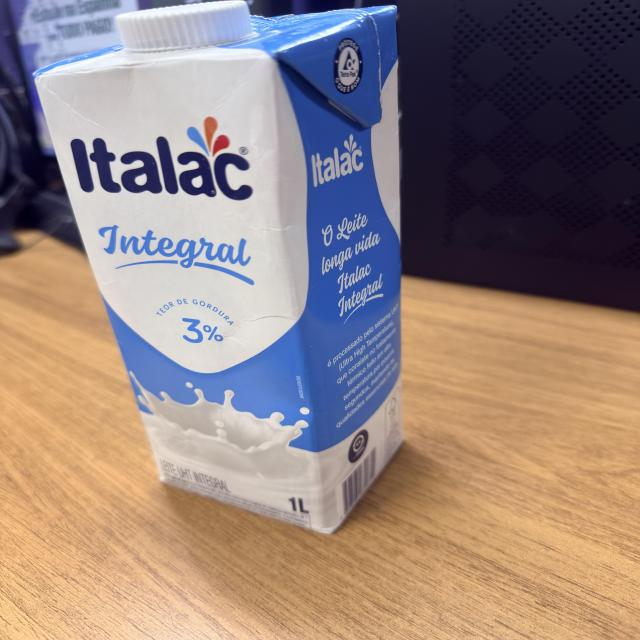Caixa de Leite: (35, 5, 405, 533)
